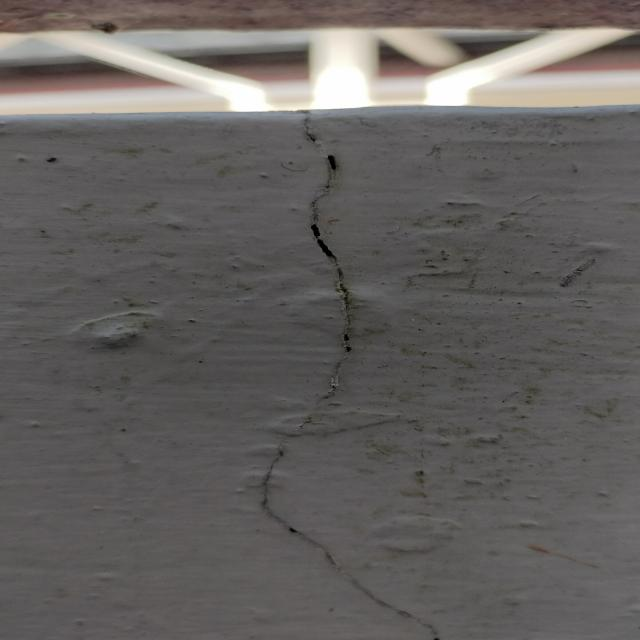Crack: (238, 115, 456, 640)
